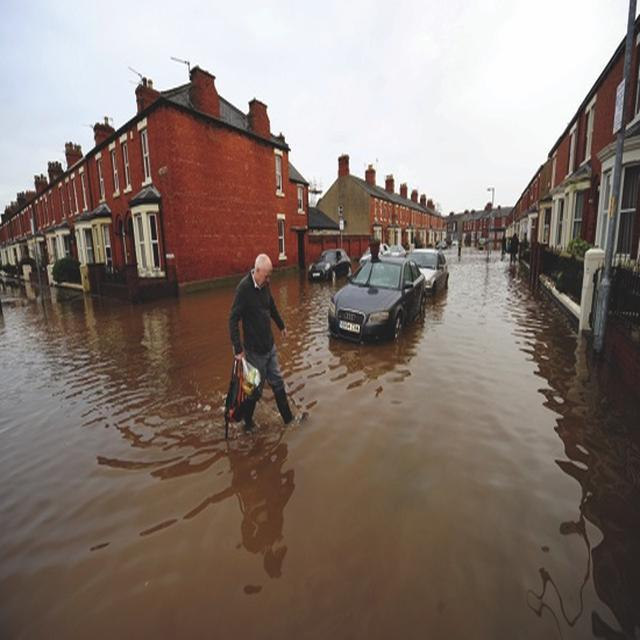Car-RiskLevel2: (323, 253, 426, 343)
Person-RiskLevel2: (226, 251, 298, 429)
